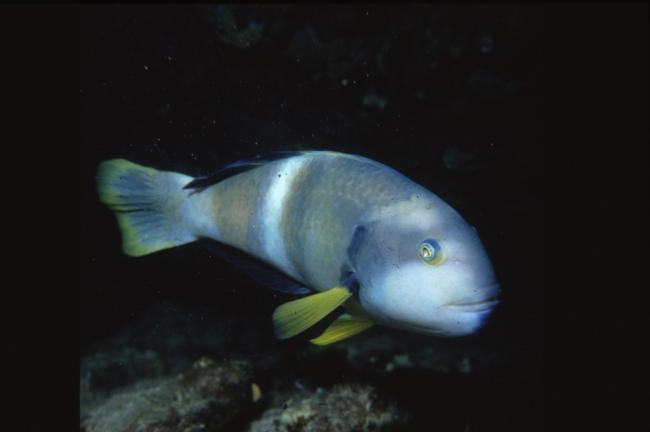fish: (95, 150, 498, 347)
